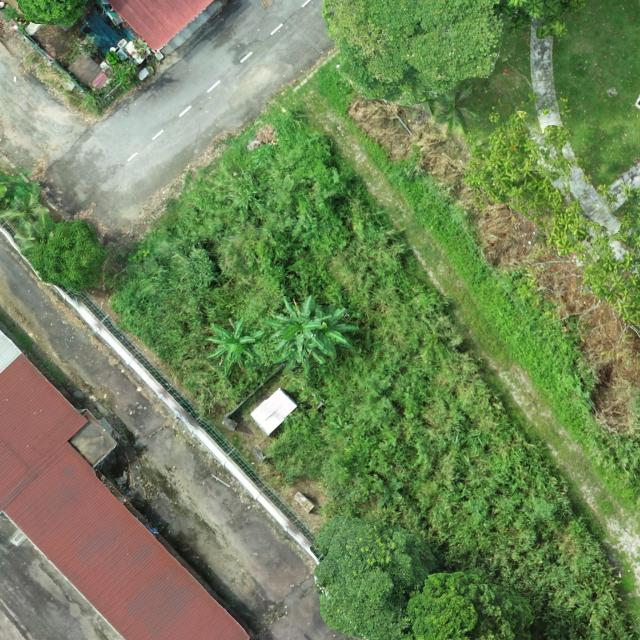Tree: (465, 110, 601, 256), (321, 0, 505, 103), (308, 513, 441, 640), (404, 569, 538, 640), (584, 178, 640, 334), (261, 295, 360, 376), (23, 219, 104, 288), (206, 314, 266, 375), (0, 189, 50, 250), (432, 84, 481, 136), (15, 0, 89, 27)
